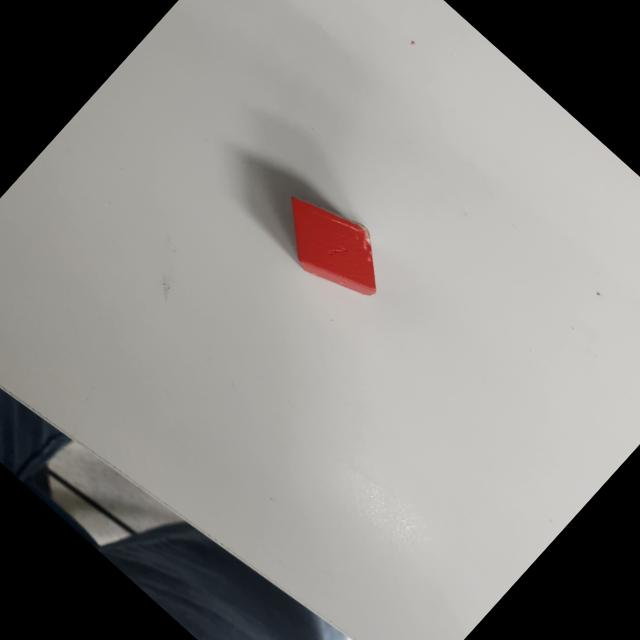broken: (256, 174, 406, 318)
